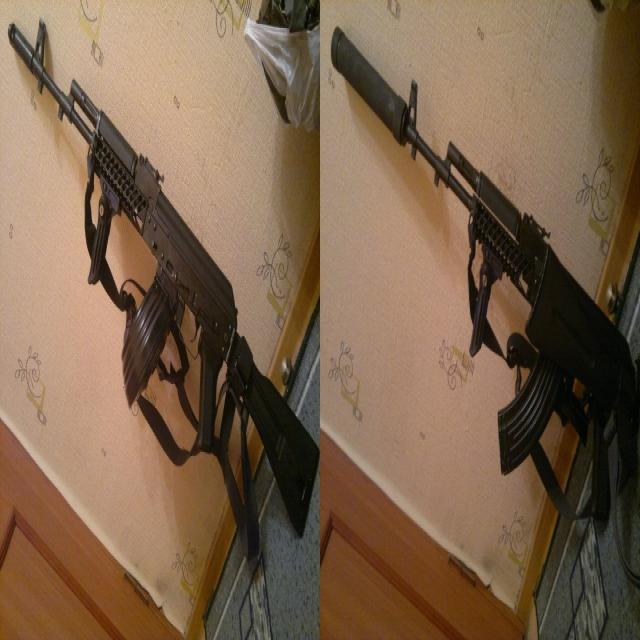firearm: (7, 14, 320, 567), (330, 23, 636, 530)
